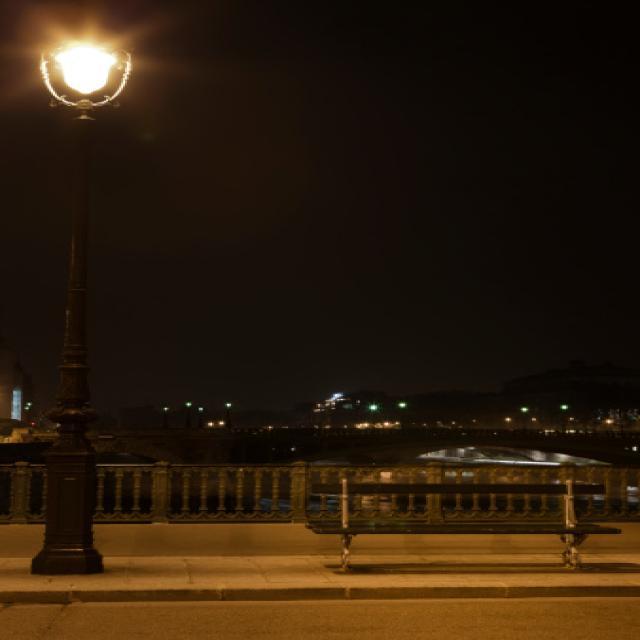chair: (287, 458, 618, 582)
